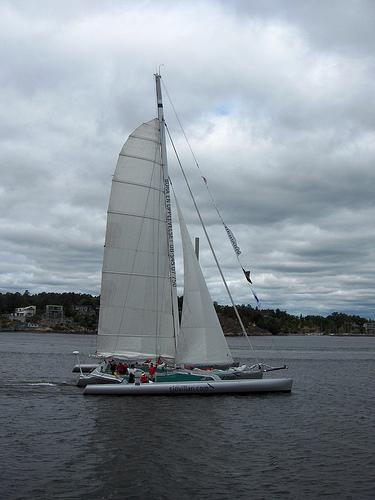Ship: (76, 75, 295, 400)
